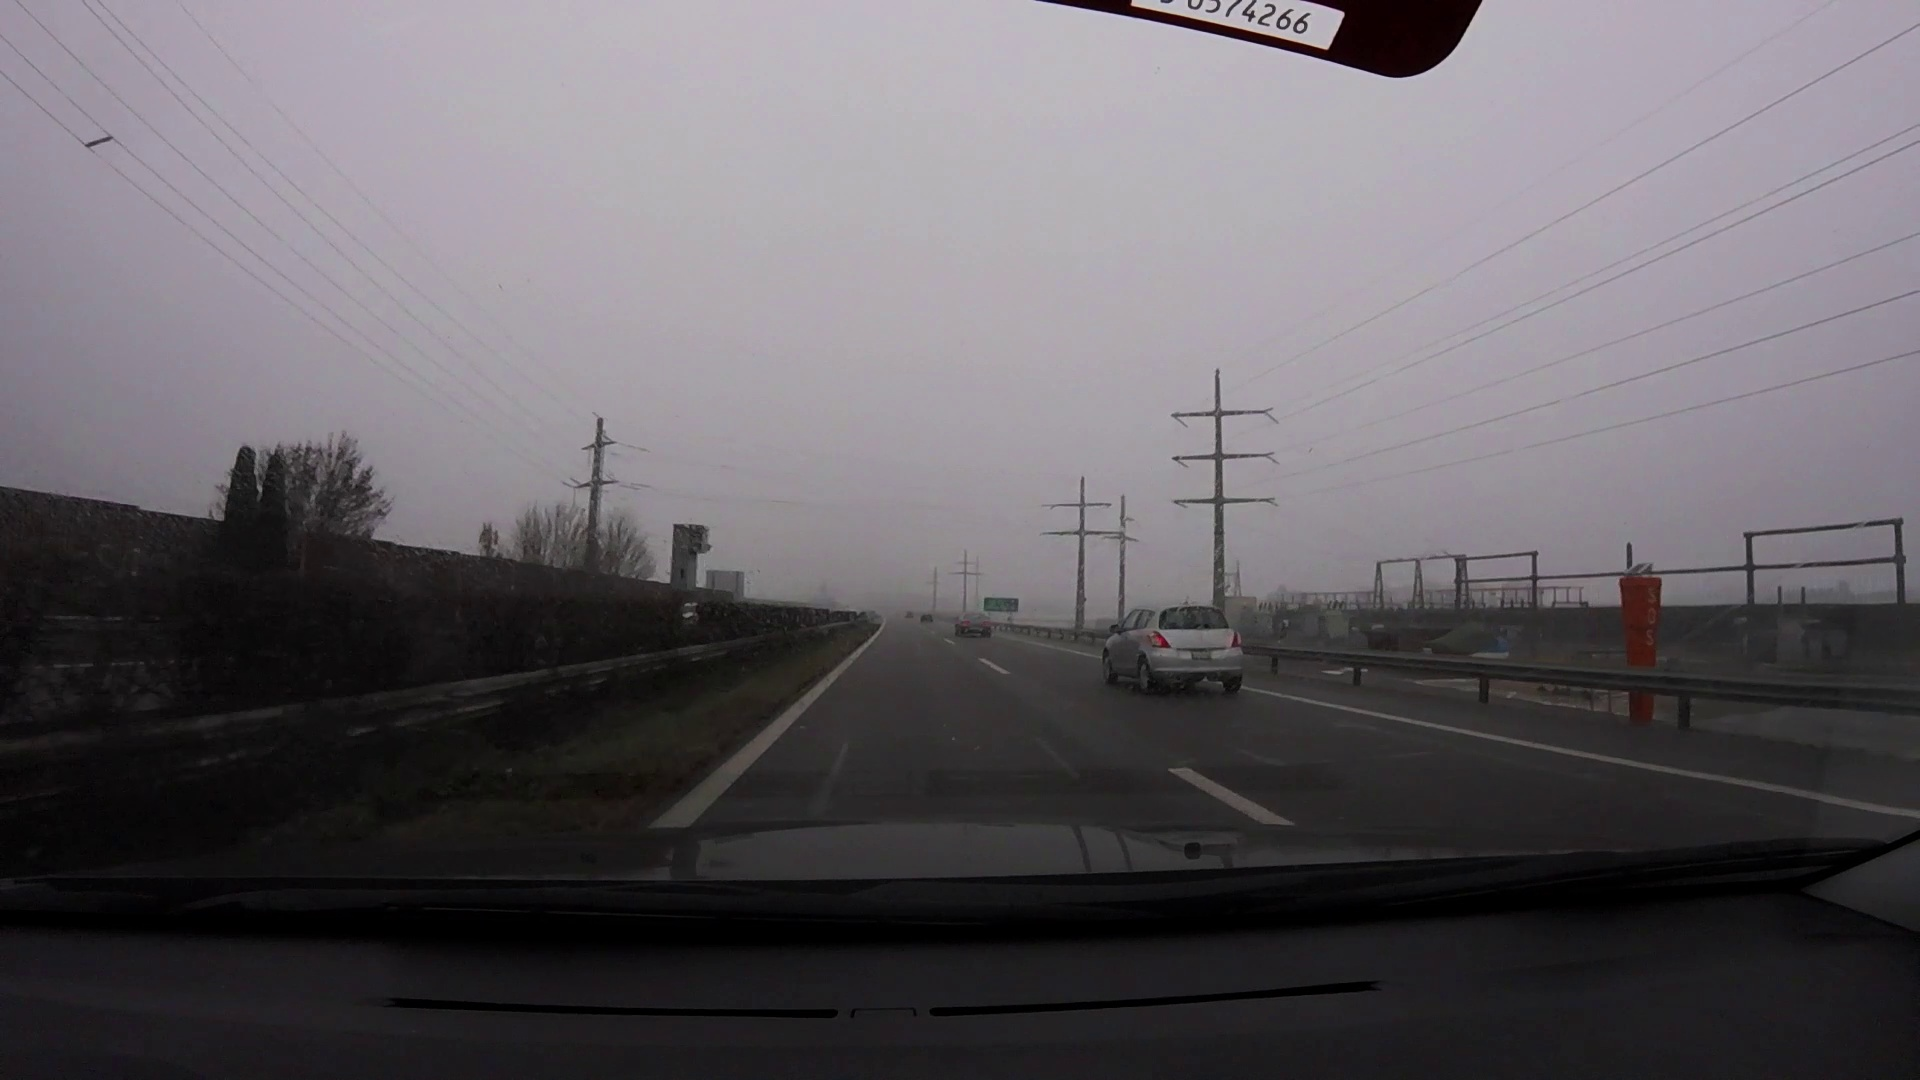radar: (670, 522, 715, 607)
